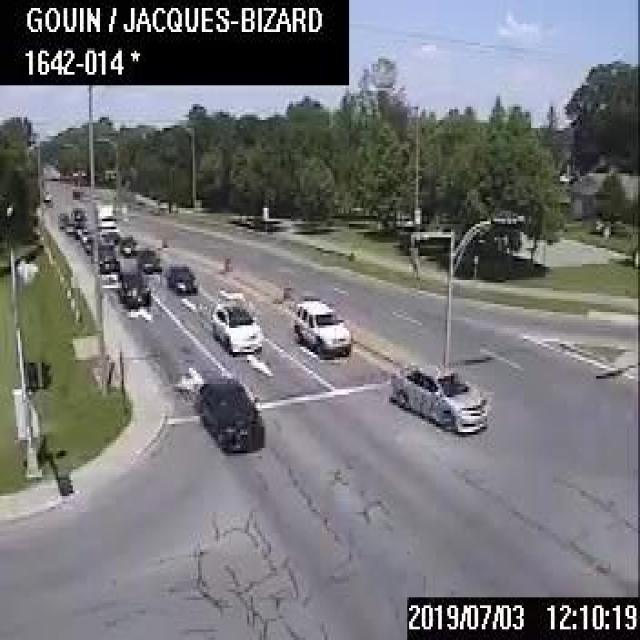vehicle: (388, 362, 486, 432), (196, 378, 263, 451), (292, 298, 350, 354), (210, 301, 260, 354), (117, 270, 149, 307), (166, 262, 196, 294), (93, 200, 117, 230), (135, 246, 161, 272), (97, 243, 118, 274), (70, 204, 86, 238), (117, 234, 137, 253), (57, 211, 66, 226), (80, 227, 88, 242), (42, 189, 50, 202), (64, 220, 73, 231)
